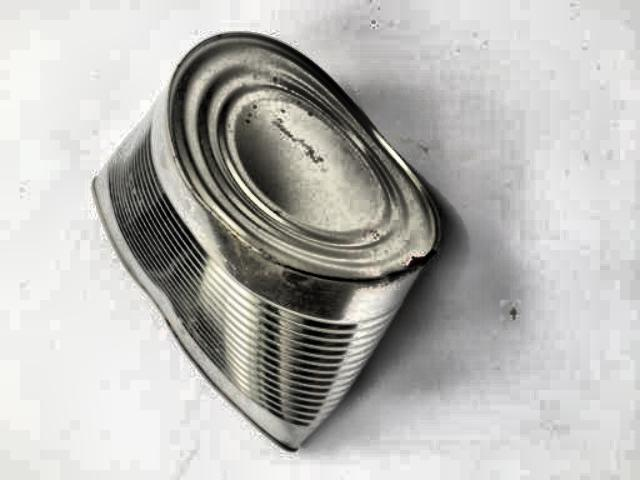Almennt: (79, 23, 466, 463)
